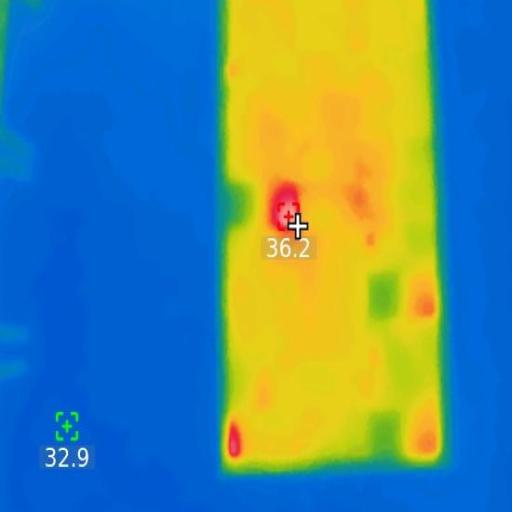hotspot: (272, 184, 300, 232), (230, 421, 240, 460)
